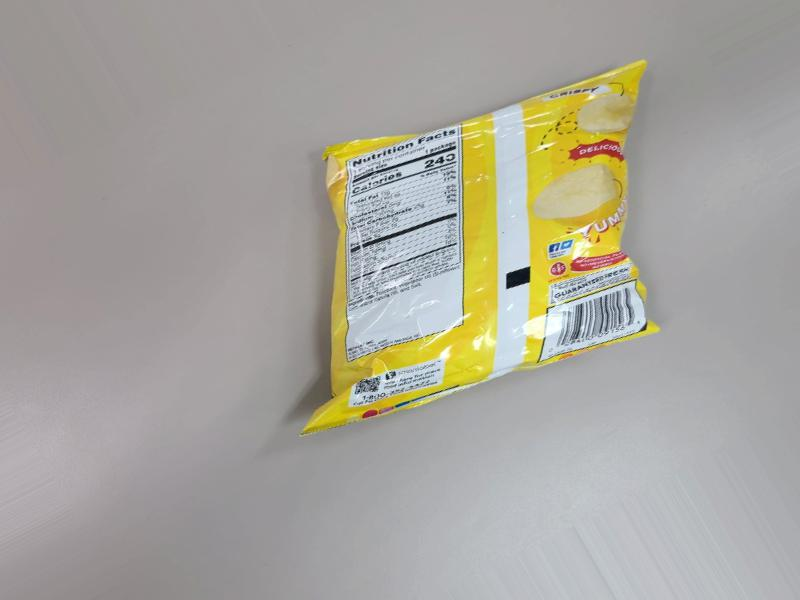lays: (309, 64, 642, 433)
